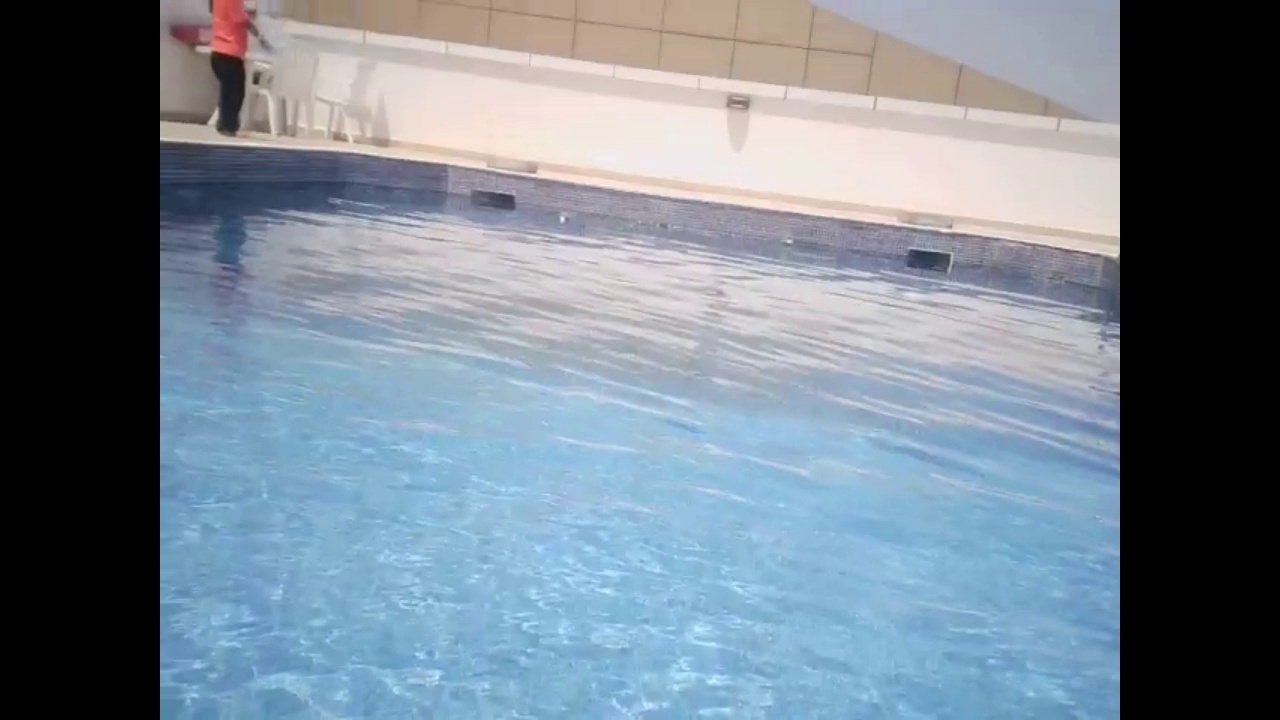debris: (554, 208, 571, 226), (778, 235, 795, 249)
